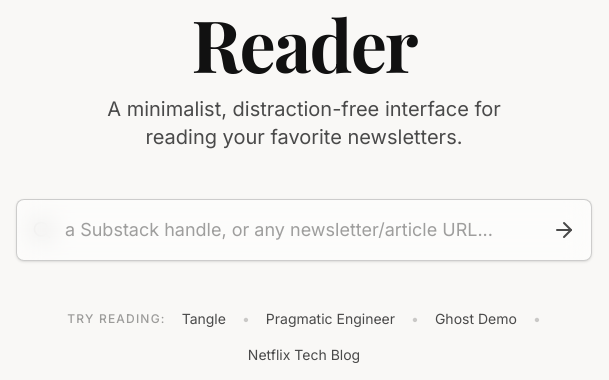
Test: Home › fills the input from suggestion buttons
Click the button "Ghost Demo" at [476, 319], box [435,309,517,329]
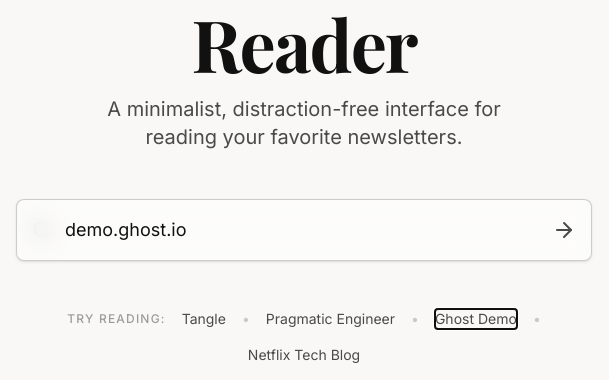
Now the field with placeholder "a Substack handle, or any newsletter/article URL..." holds "demo.ghost.io", box [16,199,592,261]
